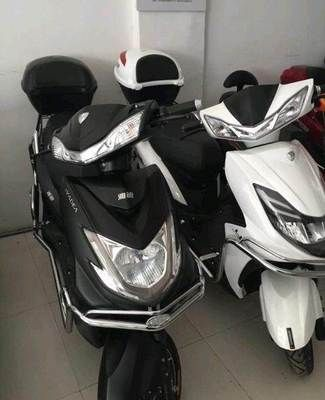non-vehicle: (126, 43, 321, 377), (22, 54, 191, 394)
